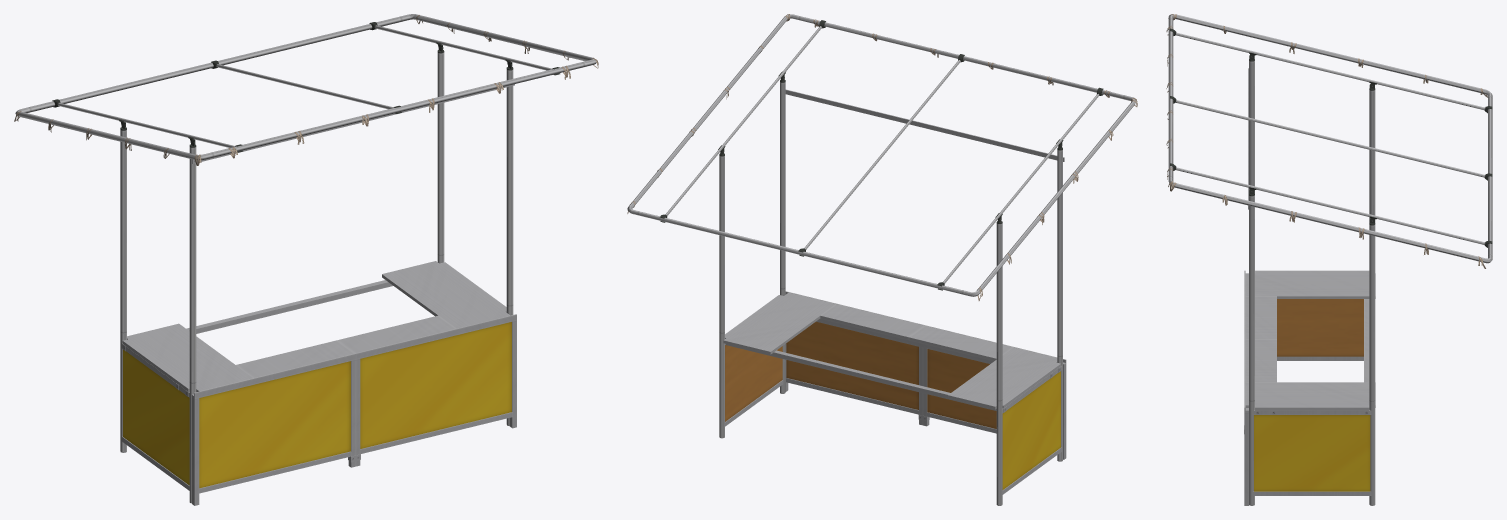
Rendered from jsf_4P_s02_c03_t03.fbx.
3 views of the same model, side by side, from view 1: azimuth 30°, elevation 25°; view 2: azimuth 150°, elevation 25°; view 3: azimuth 270°, elevation 25° (orthographic). The views are drawn at different scales.
Visible parts, largest first — view 1: Base_s02_c03, Pillar4_s02, Table_4P_s02_t03, Rope_4P_s02; view 2: Base_s02_c03, Pillar4_s02, Table_4P_s02_t03, Rope_4P_s02; view 3: Base_s02_c03, Pillar4_s02, Table_4P_s02_t03, Rope_4P_s02.
Boxes of the visible parts, x1,y1,x2,y2 form: Base_s02_c03: (121,314,516,505); Pillar4_s02: (15,14,596,503); Table_4P_s02_t03: (122,261,509,396); Rope_4P_s02: (14,15,598,165); Base_s02_c03: (725,291,1066,494); Pillar4_s02: (627,14,1136,505); Table_4P_s02_t03: (723,292,1061,412); Rope_4P_s02: (627,14,1137,300); Base_s02_c03: (1244,270,1371,505); Pillar4_s02: (1168,14,1492,505); Table_4P_s02_t03: (1245,270,1375,414); Rope_4P_s02: (1166,14,1487,268).
Size of the model in its own units: 264 by 243 by 211.
